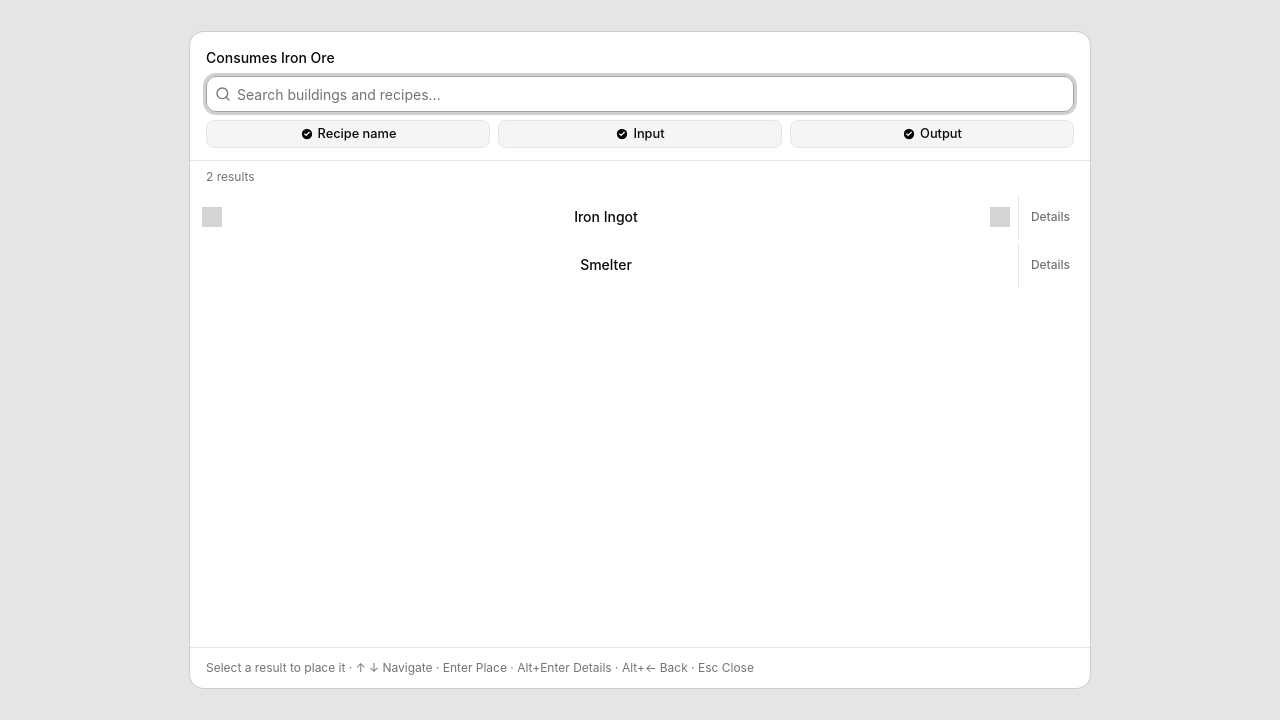
Test: shows connection context and never broadens eligibility when clearing or resetting
The image size is (1280, 720).
Expected: the text "Consumes Iron Ore" is shown, [206,49,335,66]
Expected: the element named "Search fields" is shown, [206,120,1074,148]
In the dropdown: (652, 94) [231,78,1073,110], type "missing"
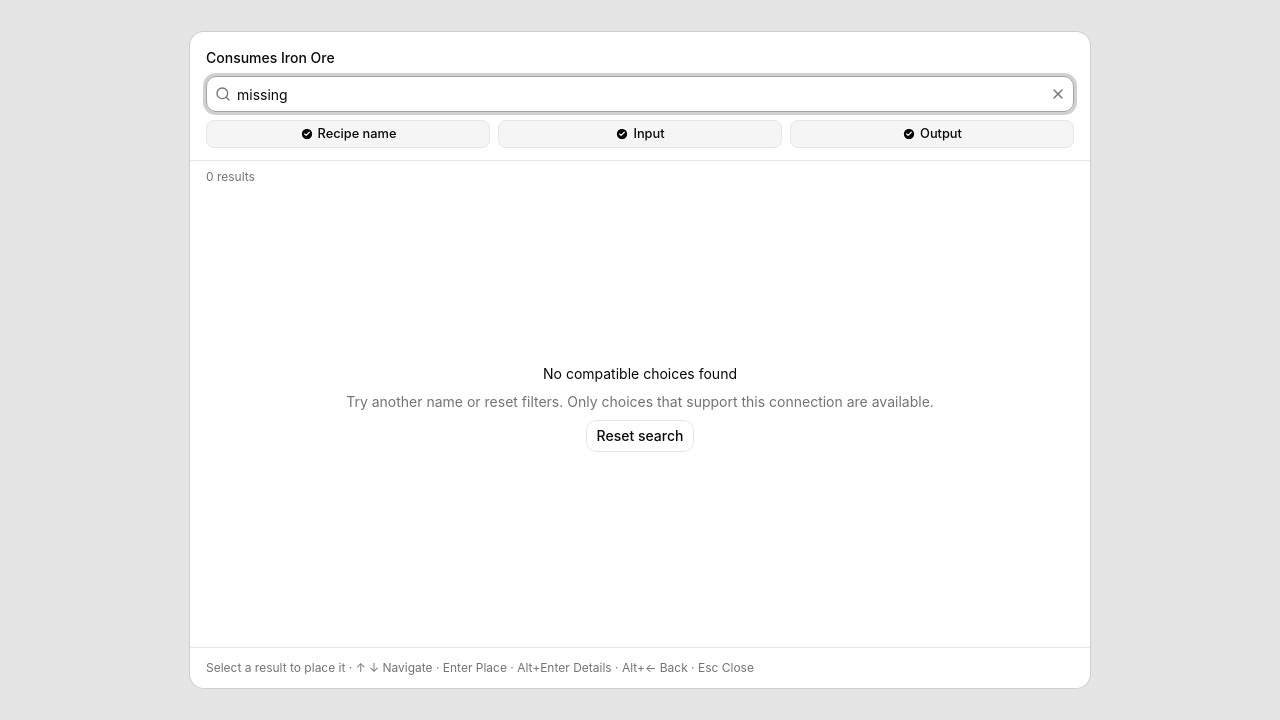
Result: the text "No compatible choices found" is shown at [543,364,737,384]
Click the button "Reset search": (640, 436) [586,420,694,452]
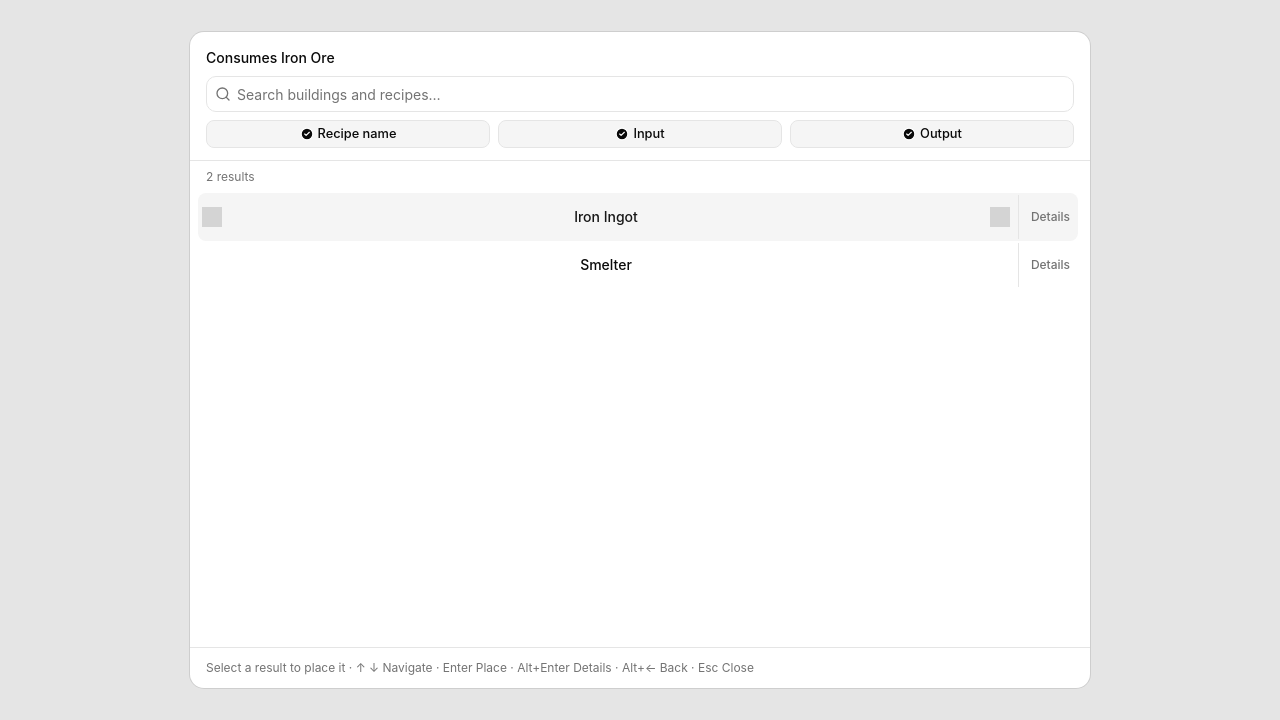
Result: the number of rows is 2 at [198,193,1078,241]; [580,243,1078,287]
Click the button with aria-label "Details for Iron Ingot": (1050, 217) [1023,195,1078,239]
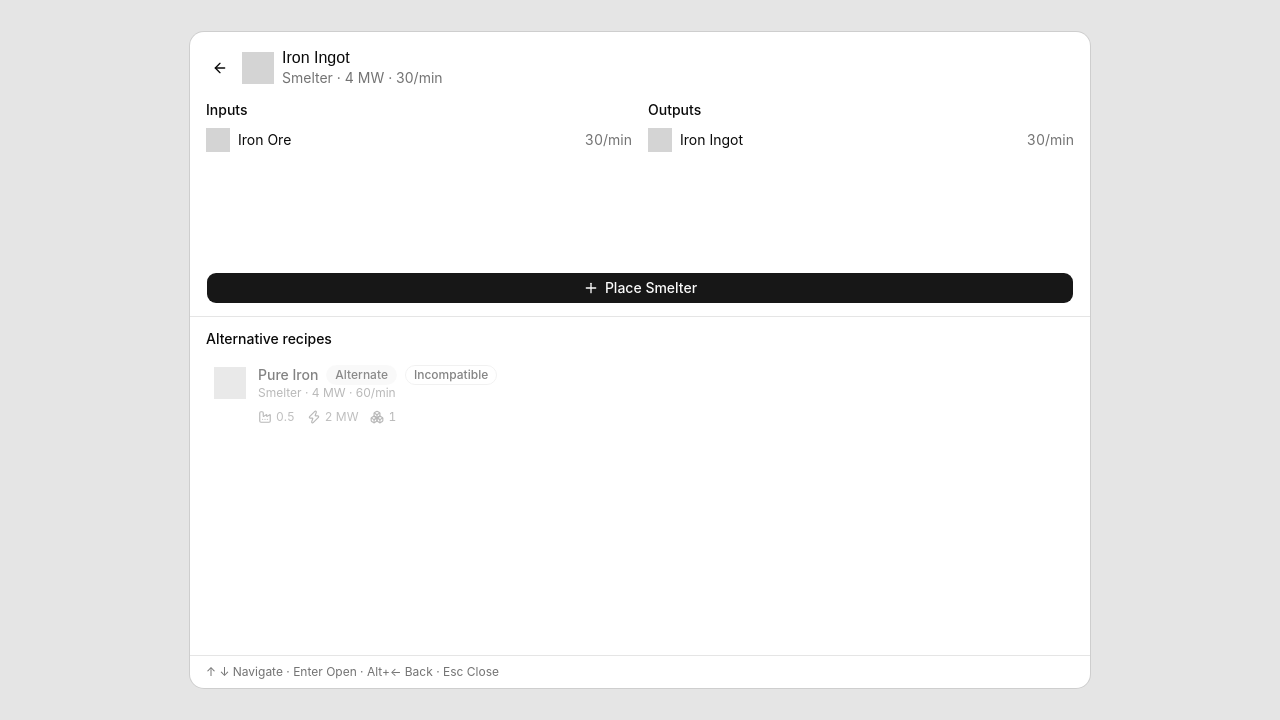
Result: the button named "Details for Pure Iron" is disabled at [206,357,1074,433]
